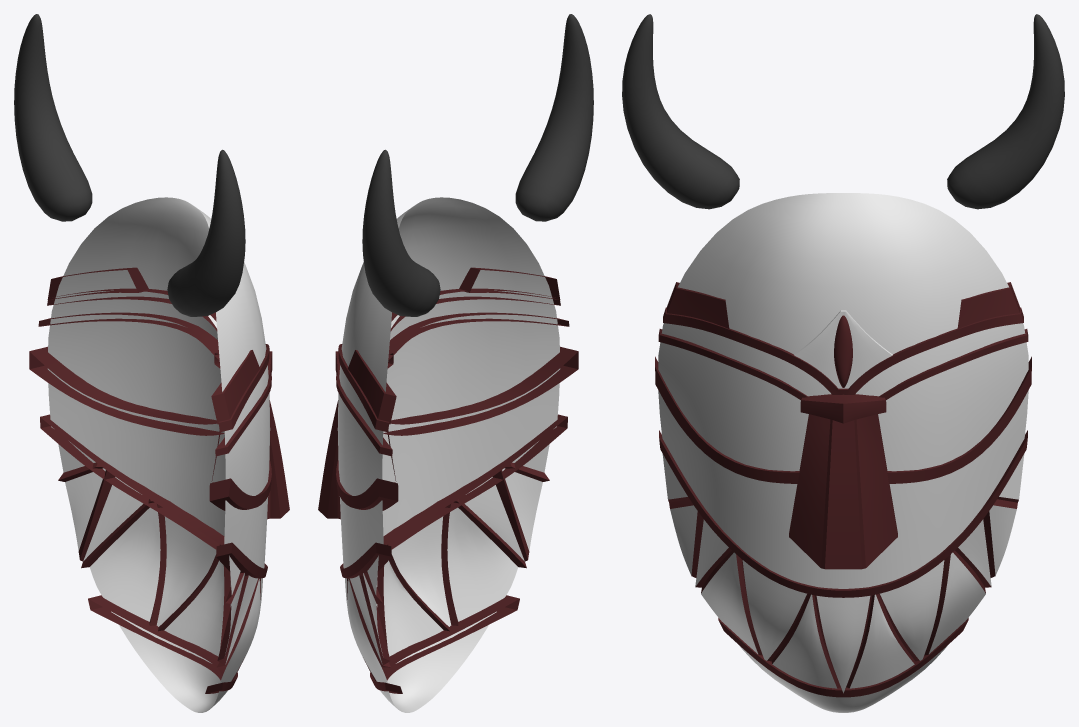
Rendered from Mask3.fbx.
3 views of the same model, side by side, from view 1: azimuth 30°, elevation 25°; view 2: azimuth 150°, elevation 25°; view 3: azimuth 270°, elevation 25° (orthographic). The views are drawn at different scales.
Visible parts, largest first — view 1: Plane.012, Plane.016, Plane.013, Plane.014; view 2: Plane.012, Plane.016, Plane.013, Plane.014; view 3: Plane.012, Plane.013, Plane.016, Plane.014, Plane.018.
Part boxes in pixels (x1=…): Plane.012: x1=47, y1=197, x2=270, y2=712; Plane.016: x1=58, y1=441, x2=262, y2=682; Plane.013: x1=29, y1=267, x2=289, y2=693; Plane.014: x1=14, y1=14, x2=245, y2=316; Plane.012: x1=337, y1=197, x2=560, y2=712; Plane.016: x1=345, y1=441, x2=549, y2=682; Plane.013: x1=318, y1=267, x2=578, y2=693; Plane.014: x1=362, y1=14, x2=593, y2=316; Plane.012: x1=658, y1=193, x2=1028, y2=712; Plane.013: x1=655, y1=282, x2=1031, y2=697; Plane.016: x1=662, y1=454, x2=1024, y2=693; Plane.014: x1=622, y1=14, x2=1064, y2=209; Plane.018: x1=794, y1=310, x2=892, y2=388.
Bounding box in the file's own units: 8.31 × 28.86 × 17.44.
